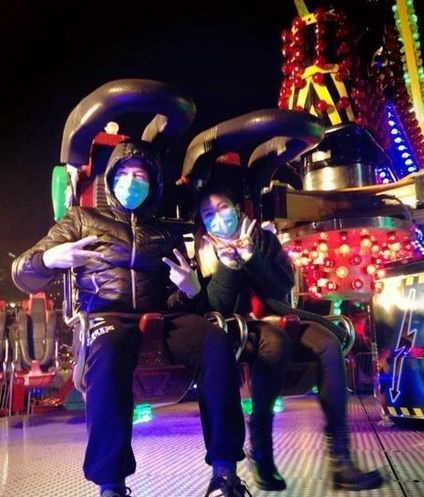face_mask: (202, 189, 238, 236), (114, 164, 150, 210)
